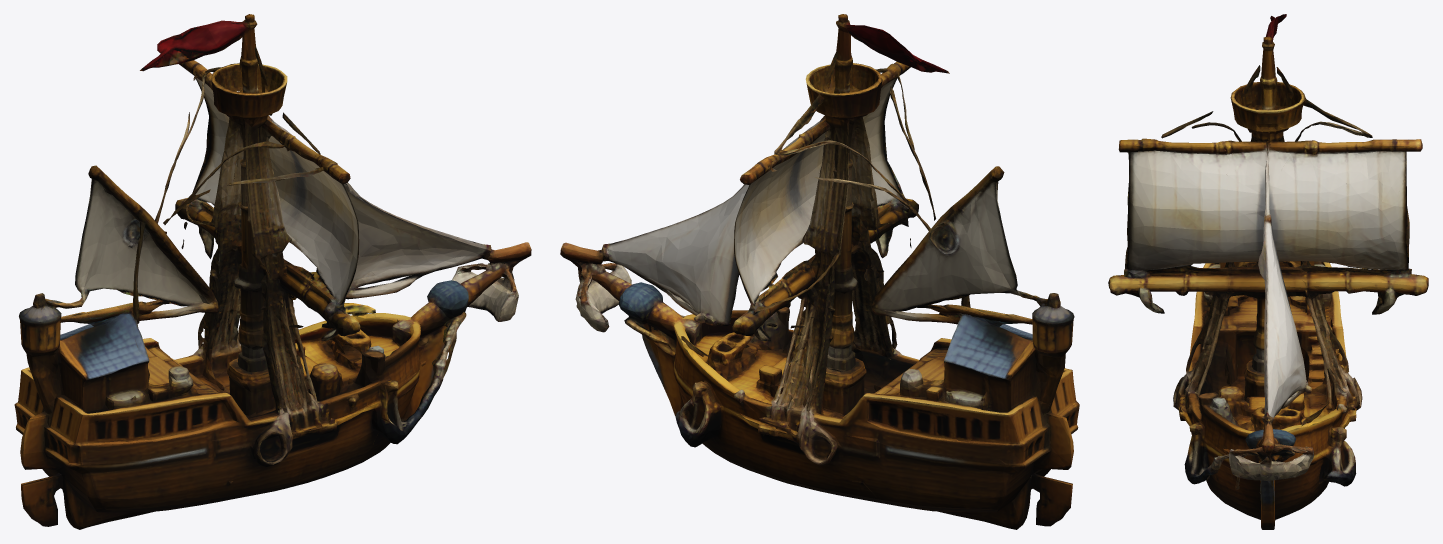
File: Ship.glb
The picture shows the model from 3 angles, left to right: view 1: azimuth 30°, elevation 25°; view 2: azimuth 150°, elevation 25°; view 3: azimuth 270°, elevation 25°; orthographic projection. The views are drawn at different scales.
Visible parts, largest first — view 1: world; view 2: world; view 3: world.
Boxes of the visible parts, <box> form: world: <box>14,14,531,529</box>; world: <box>560,14,1079,529</box>; world: <box>1108,14,1428,529</box>.
Bounding box in the file's own units: 1 × 0.8901 × 0.583.
1 material, 1 textured.
